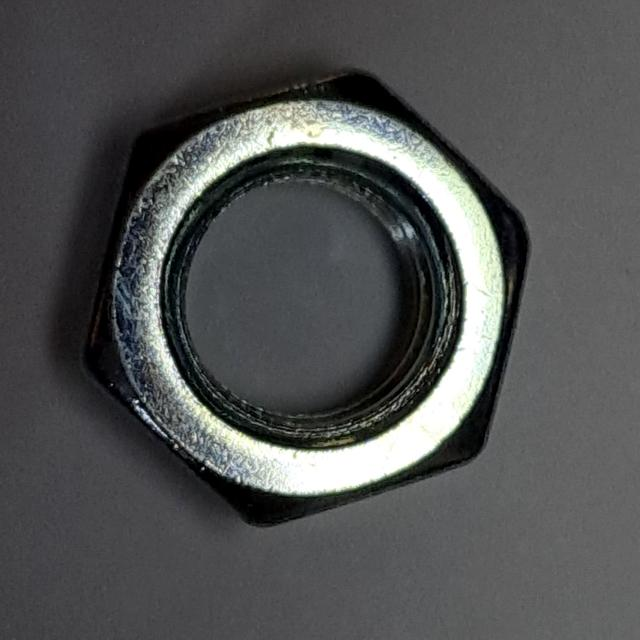Excellent: (64, 55, 544, 540)
